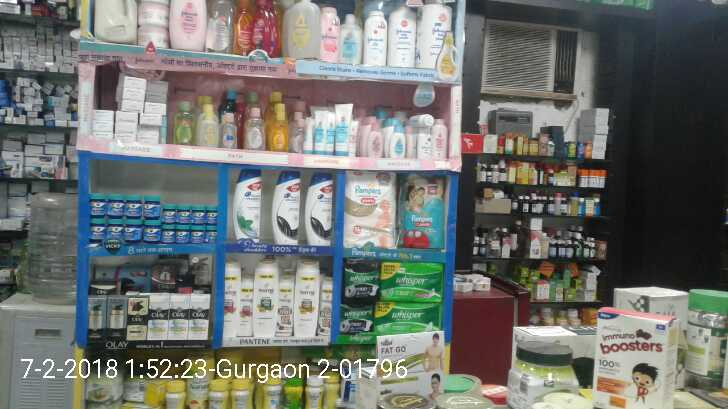vicks: (88, 194, 214, 242)
